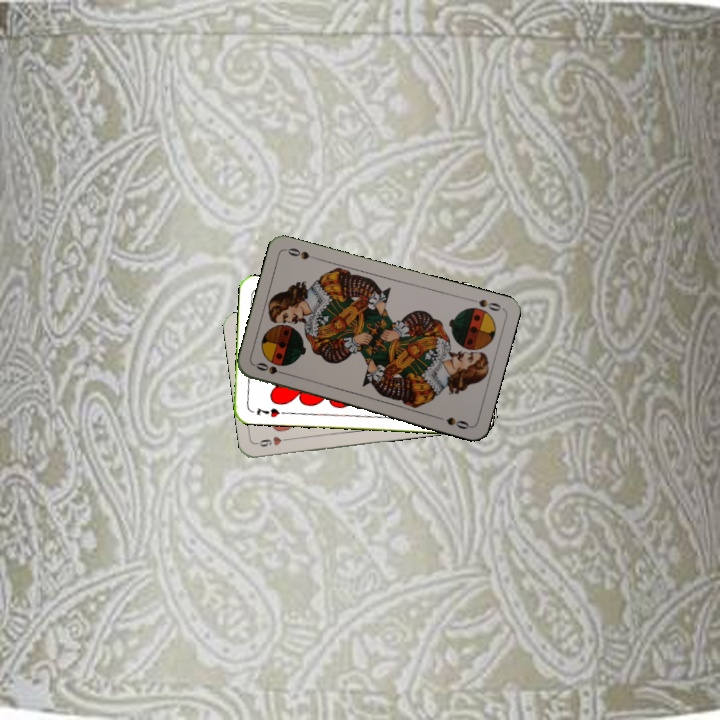H7: (252, 404, 282, 420)
H9: (253, 432, 293, 450)
SO: (251, 358, 291, 378), (465, 294, 504, 314)
